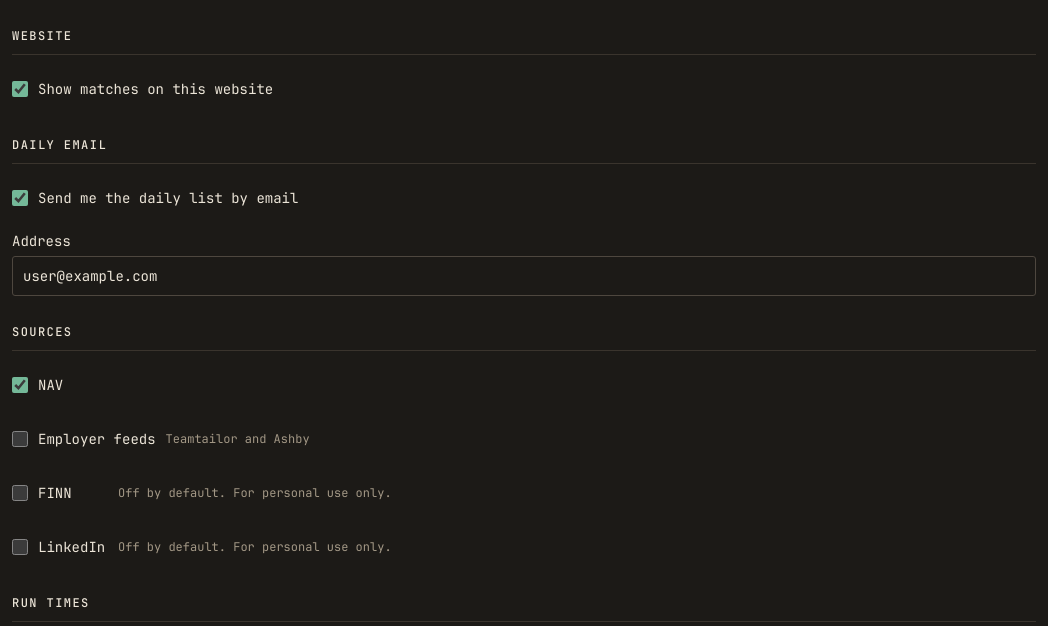
Test case: DeliverySettings › should keep at least one source on
The image size is (1048, 626).
Click the checkbox labelled "NAV" at (20, 385), box [12,377,28,393]
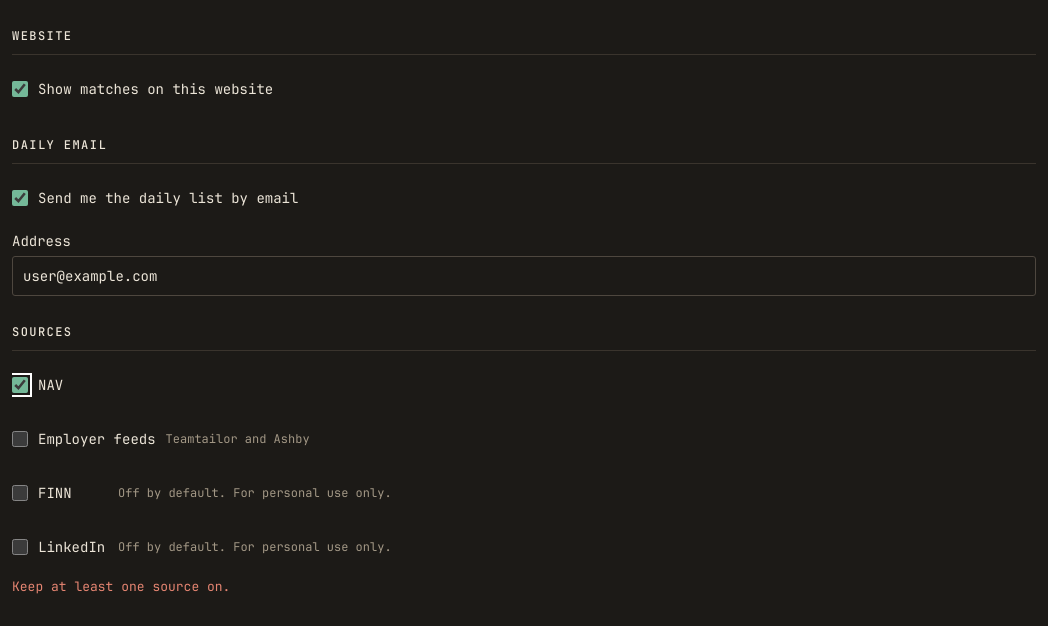
Now the message reads "Keep at least one source on.", box [12,578,230,595]
